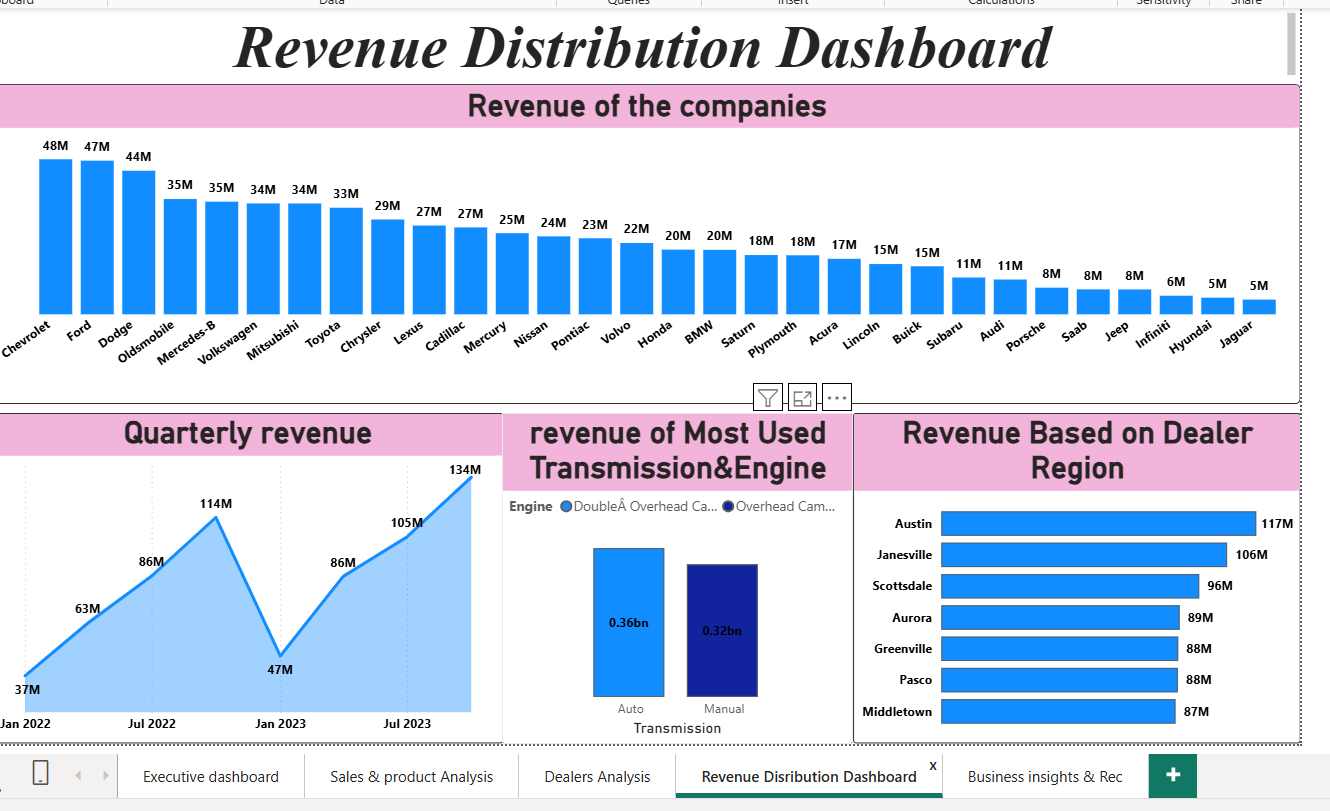

What the dashboard file says about the page in this screenshot:
{"tool":"powerbi","page":{"name":"Revenue Disribution Dashboard","canvas":[1280,720],"ordinal":3},"visuals":[{"type":"clusteredColumnChart","title":"Revenue of the companies","fields":{"Y":["Sum(car_data.Price ($))"],"Category":["car_data.Company"]},"box":[0,74.1,1280.3,312.9],"z":0},{"type":"areaChart","title":"Quarterly revenue","fields":{"Category":["car_data.Date.Variation.Date Hierarchy.Year","car_data.Date.Variation.Date Hierarchy.Quarter"],"Y":["Sum(car_data.Price ($))"]},"box":[0,396.5,499.7,323.5],"z":1000},{"type":"textbox","box":[0,0,1280,74.1],"z":2000},{"type":"columnChart","title":"revenue of  Most Used Transmission&Engine","fields":{"Category":["car_data.Transmission"],"Y":["Sum(car_data.Price ($))"],"Series":["car_data.Engine"]},"box":[499.5,396.6,343.1,323.8],"z":3000},{"type":"barChart","title":"Revenue Based on Dealer Region","fields":{"Category":["car_data.Dealer_Region"],"Y":["Sum(car_data.Price ($))"]},"box":[842.5,396.5,437.8,323.5],"z":4001}]}

Visuals, with their boxes on the page's 1280x720 design canvas (x1, y1, x2, y2). These are canvas units, not pixel positions in the 1330x811 screenshot, which may show the page scaled, cropped or inside an application window:
"Revenue of the companies" clusteredColumnChart: (0, 74, 1280, 387)
"Quarterly revenue" areaChart: (0, 396, 500, 720)
textbox: (0, 0, 1280, 74)
"revenue of  Most Used Transmission&Engine" columnChart: (500, 397, 843, 720)
"Revenue Based on Dealer Region" barChart: (842, 396, 1280, 720)
